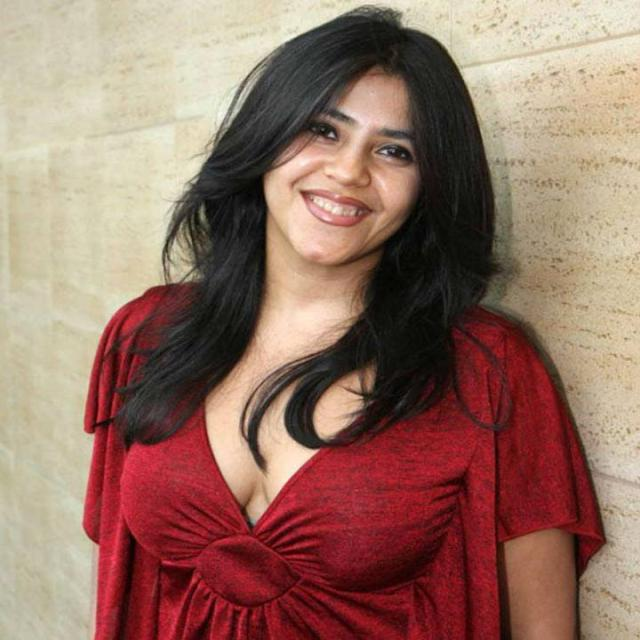human: (71, 7, 607, 640)
